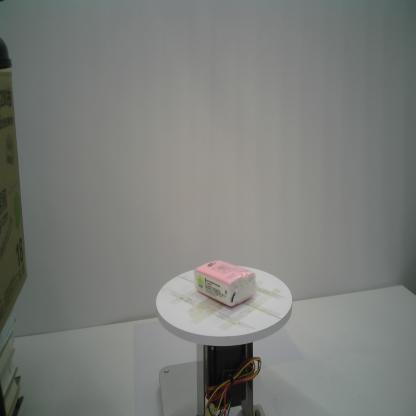Tissue: (194, 257, 258, 308)
